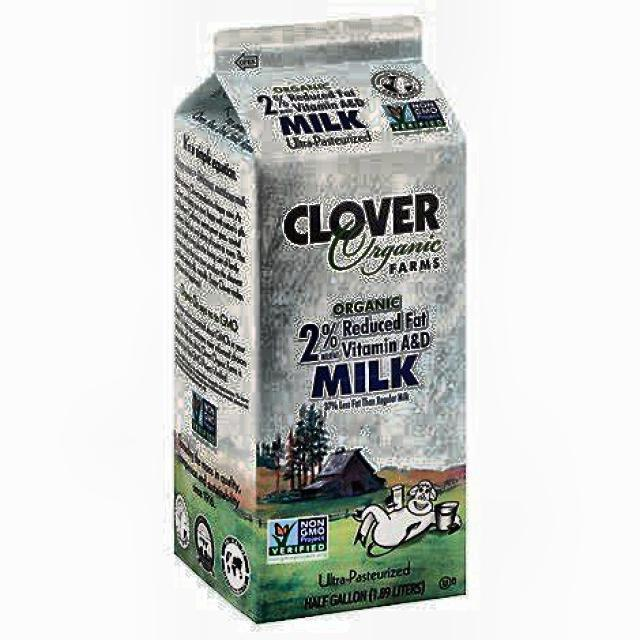cardboard: (172, 14, 468, 624)
